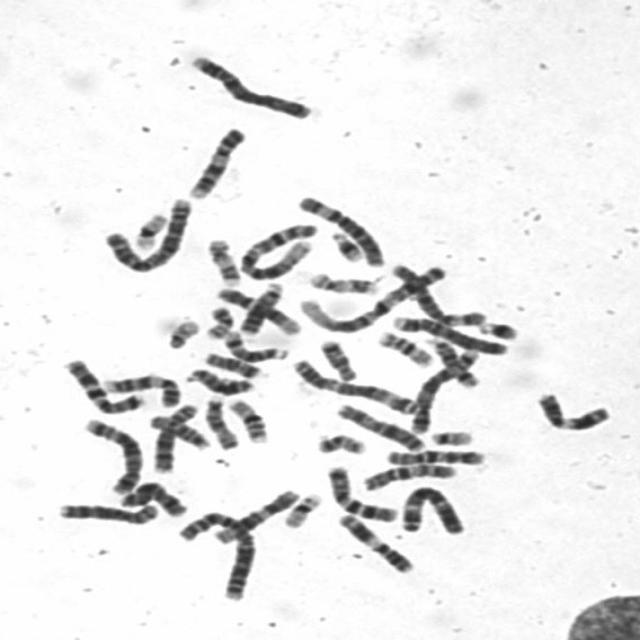A1: (295, 261, 451, 334), (233, 218, 319, 281)
A2: (172, 505, 260, 603), (99, 193, 195, 275)
A3: (288, 354, 422, 416), (394, 481, 471, 536)
B4: (185, 50, 314, 122), (388, 312, 510, 356)
B5: (406, 344, 482, 435), (76, 413, 146, 495)
C10: (357, 460, 460, 492), (380, 445, 488, 466)
C11: (332, 509, 417, 575), (532, 388, 614, 433)
C12: (209, 485, 303, 544), (211, 283, 303, 336)
C6: (294, 191, 390, 268), (385, 258, 490, 328)
C7: (59, 354, 148, 415), (322, 460, 401, 524)
C8: (148, 398, 204, 474), (53, 498, 163, 526)
C9: (184, 122, 250, 200), (99, 369, 184, 408)
D13: (234, 279, 286, 336), (181, 364, 256, 396)
D14: (423, 333, 481, 389), (218, 326, 290, 363)
D15: (145, 409, 213, 451), (200, 392, 241, 450)
E16: (373, 326, 436, 368), (224, 395, 272, 444)
E17: (304, 267, 382, 296), (202, 234, 243, 287)
E18: (314, 335, 360, 383), (199, 348, 265, 380)
F19: (278, 488, 326, 530), (128, 208, 172, 251)
F20: (311, 429, 370, 456), (200, 301, 237, 341)
G21: (326, 227, 366, 263), (473, 316, 522, 341)
G22: (162, 314, 203, 351), (424, 426, 476, 447)
X: (332, 400, 428, 453), (113, 477, 190, 518)
